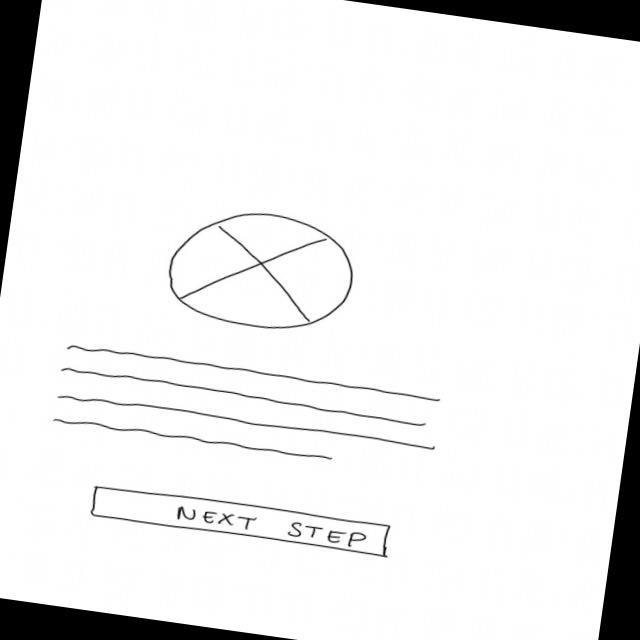button: (86, 483, 396, 563)
image: (160, 201, 364, 344)
textbox: (51, 342, 447, 483)
